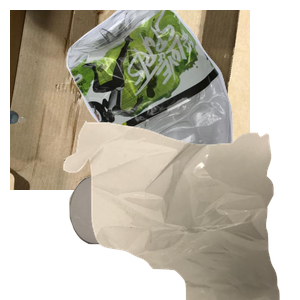cardboard: (10, 10, 250, 190)
glass: (67, 172, 229, 300)
plastic: (64, 10, 300, 190)
trash: (61, 120, 300, 300)
